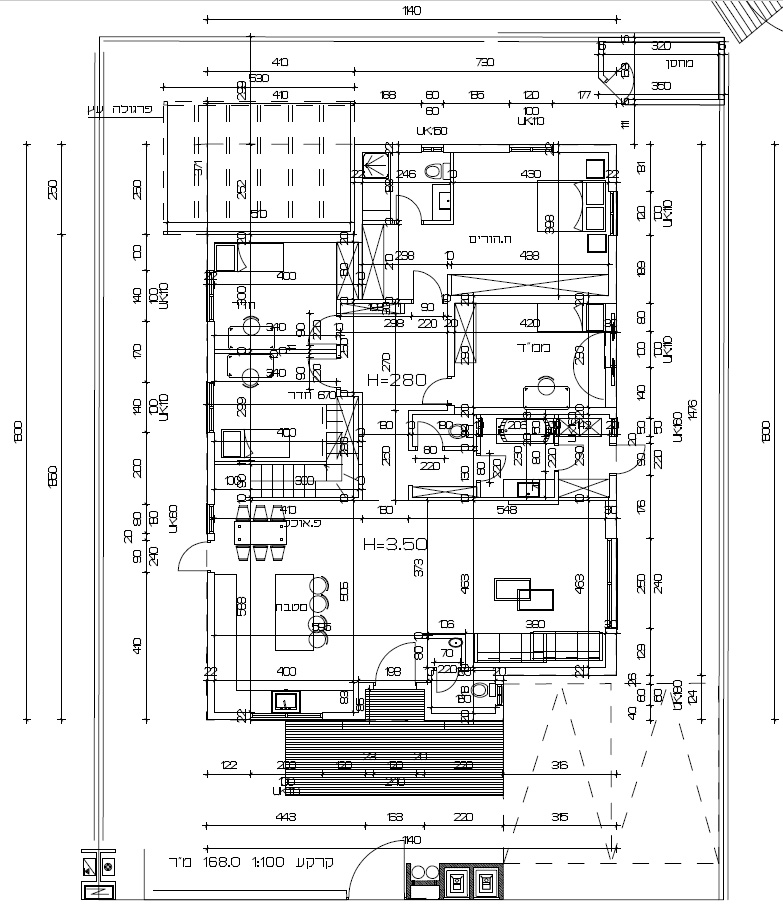door: (371, 639, 419, 683), (391, 189, 425, 229), (172, 540, 207, 574), (409, 265, 446, 296), (413, 376, 447, 406)
window: (604, 538, 617, 627), (250, 711, 320, 720), (205, 381, 215, 432), (206, 270, 215, 321), (608, 191, 618, 235), (509, 144, 552, 153), (206, 502, 214, 534), (421, 144, 443, 152)
